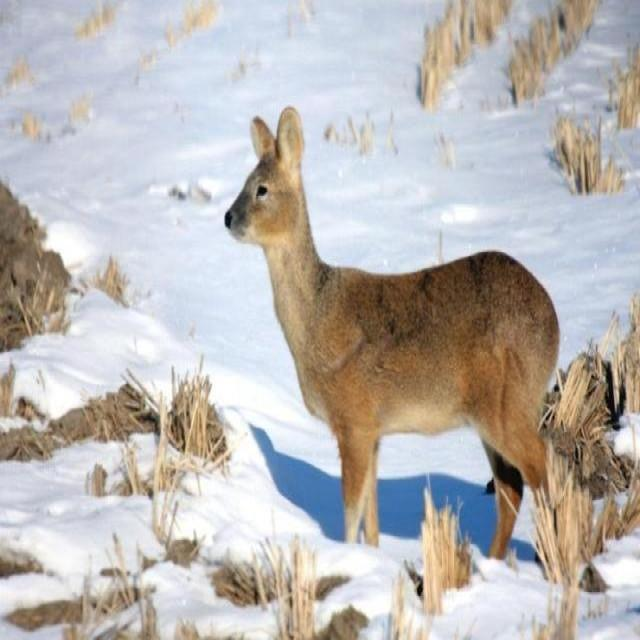deer: (204, 99, 596, 584)
